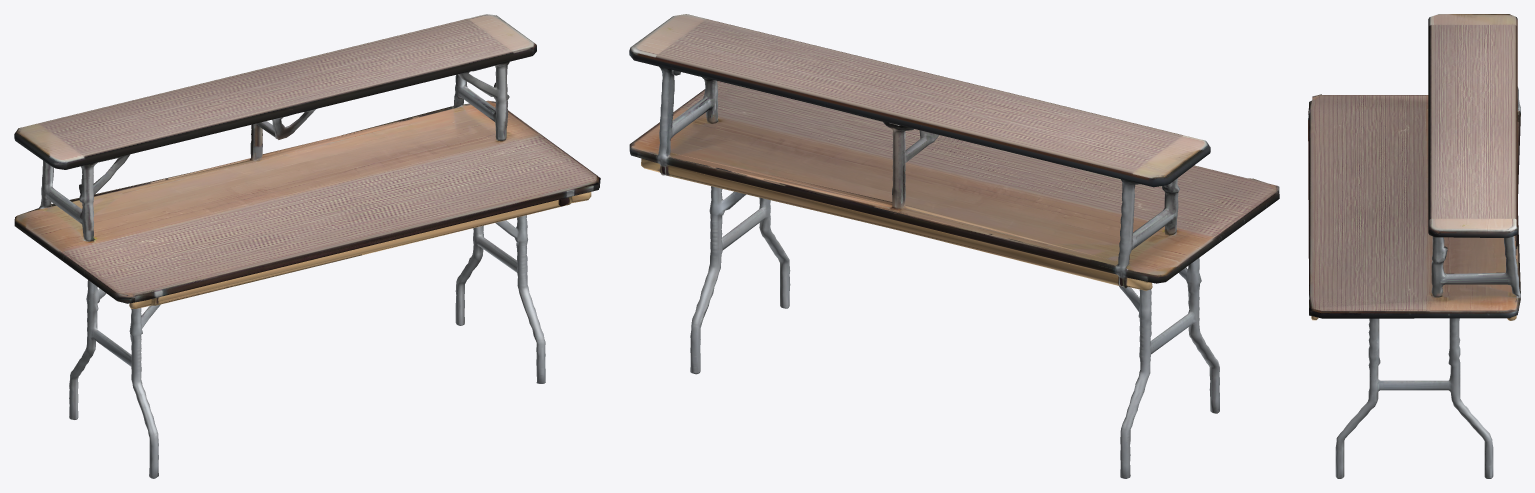
The model's file is Table_Bar_with_riser_0415150059_texture.glb.
The picture shows the model from 3 angles, left to right: view 1: azimuth 30°, elevation 25°; view 2: azimuth 150°, elevation 25°; view 3: azimuth 270°, elevation 25°; orthographic projection. The views are drawn at different scales.
Parts seen in each view (by area): view 1: Mesh_0; view 2: Mesh_0; view 3: Mesh_0.
Boxes of the visible parts, bbox=[...] form: Mesh_0: bbox=[14, 14, 600, 478]; Mesh_0: bbox=[629, 14, 1279, 478]; Mesh_0: bbox=[1308, 14, 1520, 478].
Size of the model in its own units: 1.86 by 1.07 by 0.7647.
Materials: 1 (1 with a texture image).
